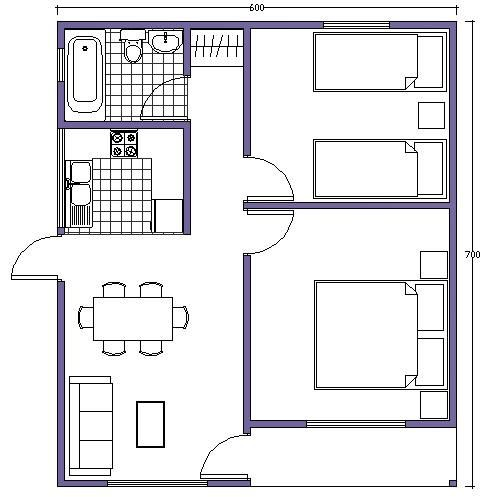door: (4, 230, 61, 280), (238, 155, 297, 200), (198, 437, 257, 479), (245, 208, 293, 259)
room: (51, 229, 260, 488), (240, 201, 461, 432), (236, 13, 458, 208), (52, 16, 249, 128)
wall: (446, 38, 458, 426), (53, 17, 328, 32), (53, 279, 68, 488), (239, 254, 256, 437), (239, 28, 255, 159), (246, 200, 451, 210), (179, 124, 194, 237), (58, 119, 191, 131), (386, 16, 459, 34), (55, 83, 69, 129), (206, 474, 252, 488), (245, 420, 307, 430), (61, 477, 108, 490), (405, 416, 446, 430)
window: (307, 408, 407, 436), (321, 13, 390, 37), (104, 479, 210, 493), (55, 46, 70, 85)
